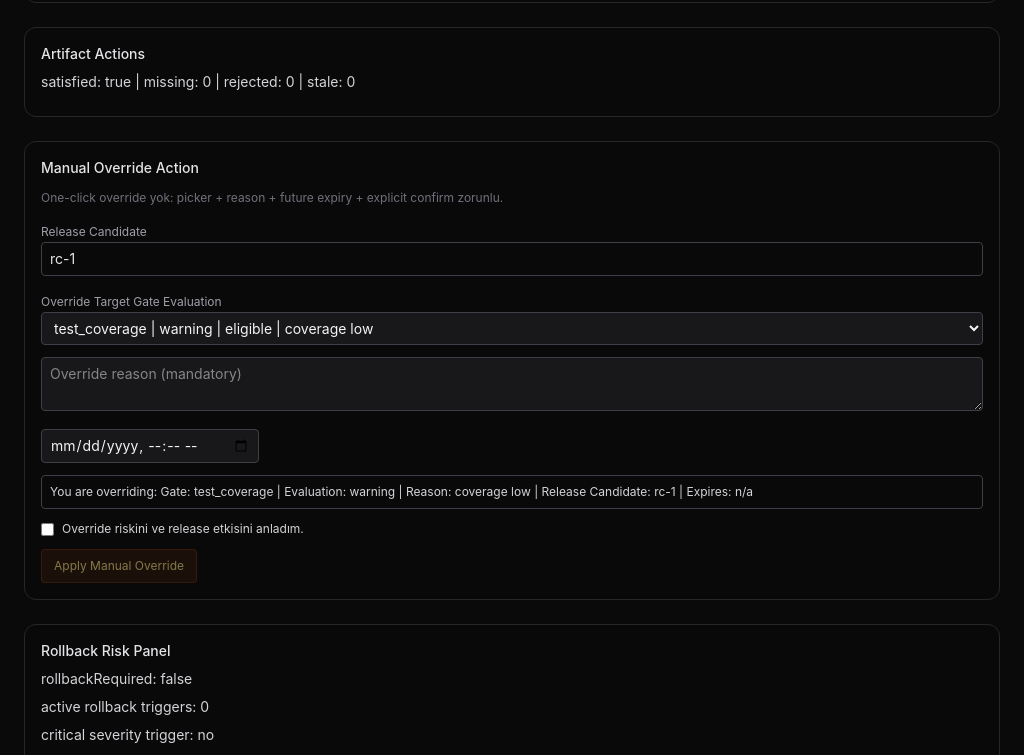
Test: ReleaseDecisionPanelPage › future expiresAt enforced
(page scrolled)
Expected: the element with test id "override-action" is shown, top-left (24, 141), bottom-right (1000, 600)
Step 1. Type "reason text" into the text box with placeholder "Override reason (mandatory)" → {"x": 512, "y": 384}, box top-left (41, 357), bottom-right (983, 411)
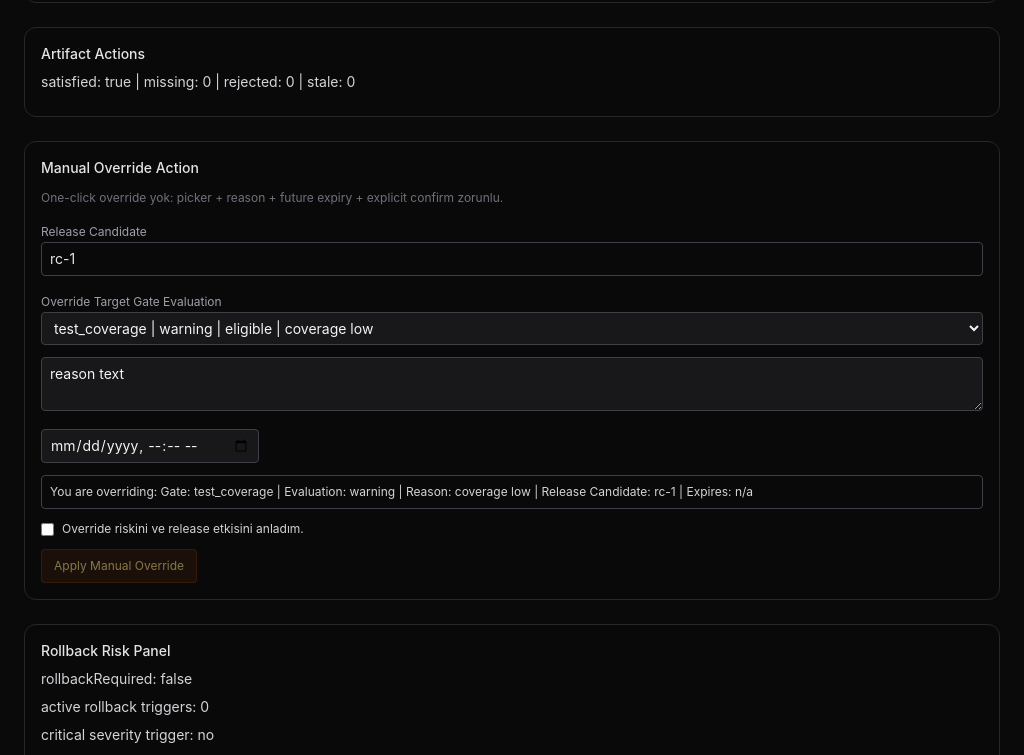
Step 2. Type "2000-01-01T10:00" into the field with test id "override-expires-at" → {"x": 150, "y": 446}, box top-left (41, 429), bottom-right (259, 463)
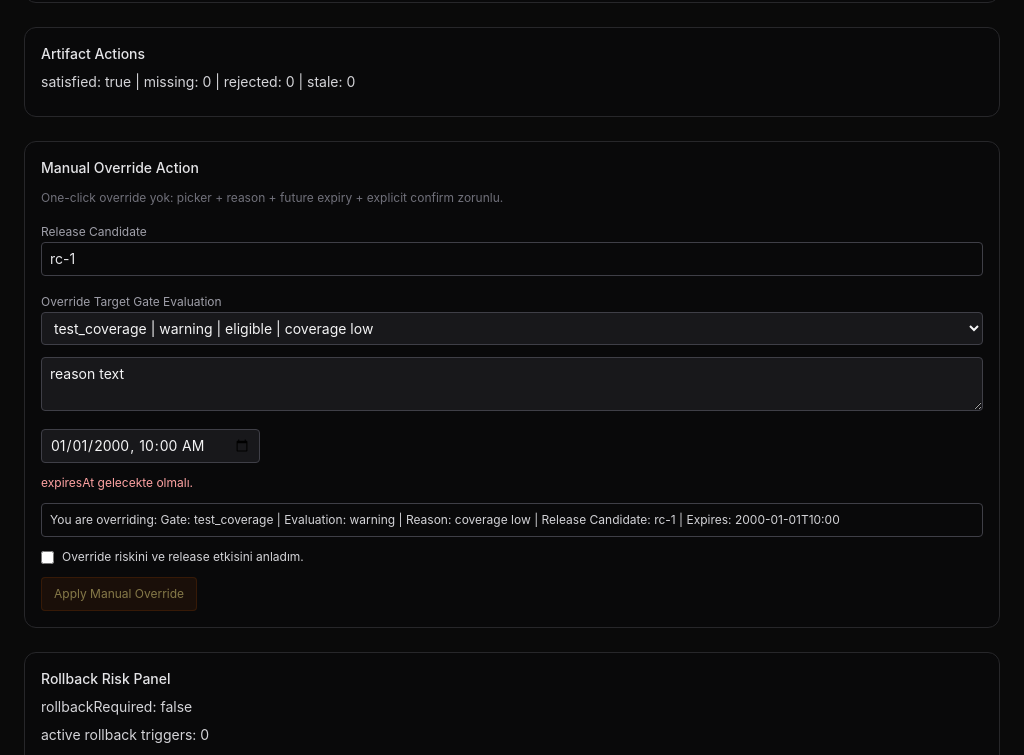
Result: the text "expiresAt gelecekte olmalı." is shown at top-left (41, 475), bottom-right (193, 490)
